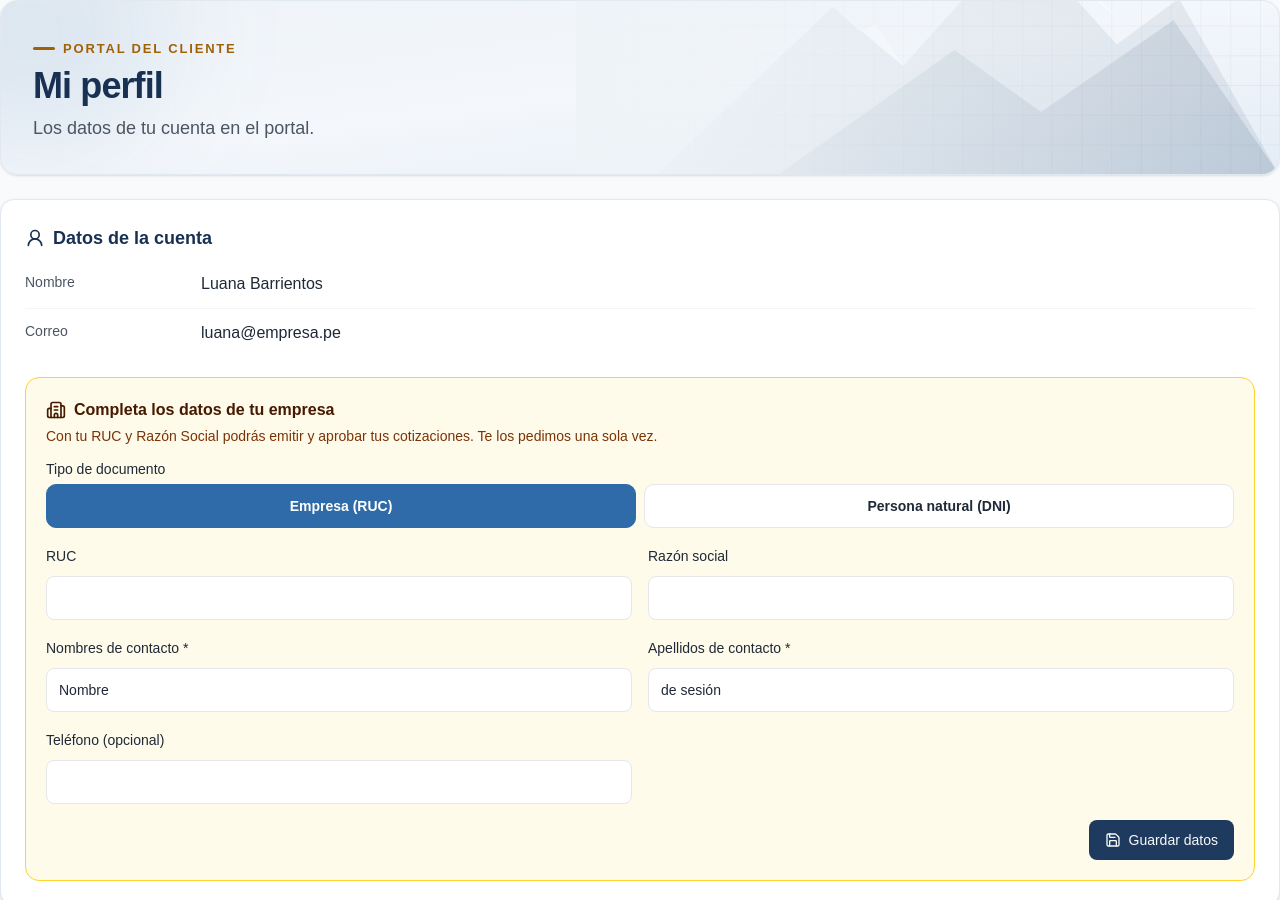
Test: PerfilClientePage (/portal/perfil) › cuenta sin datos de empresa › si la empresa ya es cliente: cierra la sesión y muestra el mensaje de acceso pendiente
expect the element "Completa los datos de tu empresa" is shown: met, box x1=25 y1=377 x2=1255 y2=881
Type "20123456789" into the field labelled "RUC" at (339, 598), box x1=46 y1=576 x2=632 y2=620
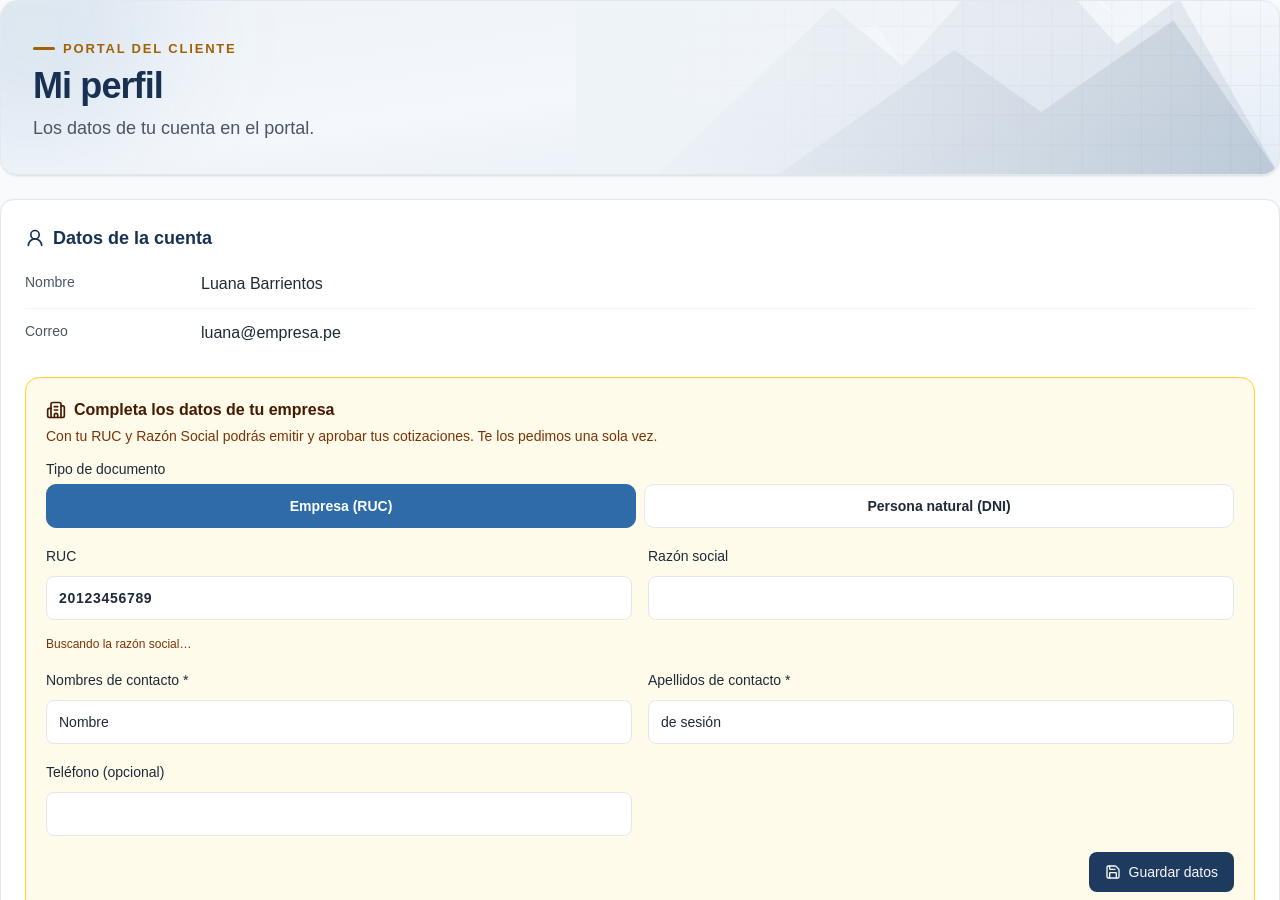
Type "Minera Sol S.A.C." into the field labelled "Razón social" at (941, 598), box x1=648 y1=576 x2=1234 y2=620
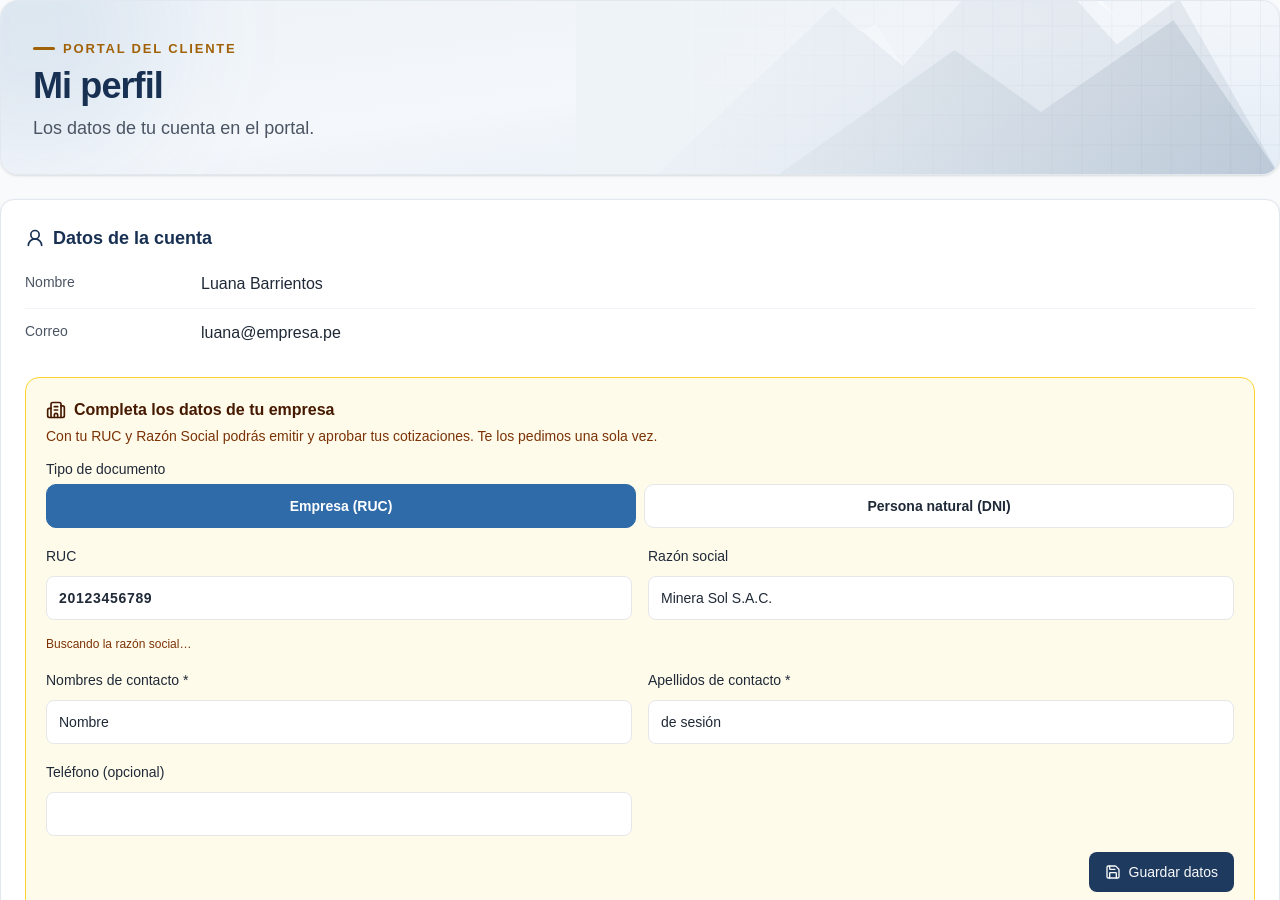
Replace the text in the field labelled "Nombres de contacto *" with "Gina" at (339, 722), box x1=46 y1=700 x2=632 y2=744
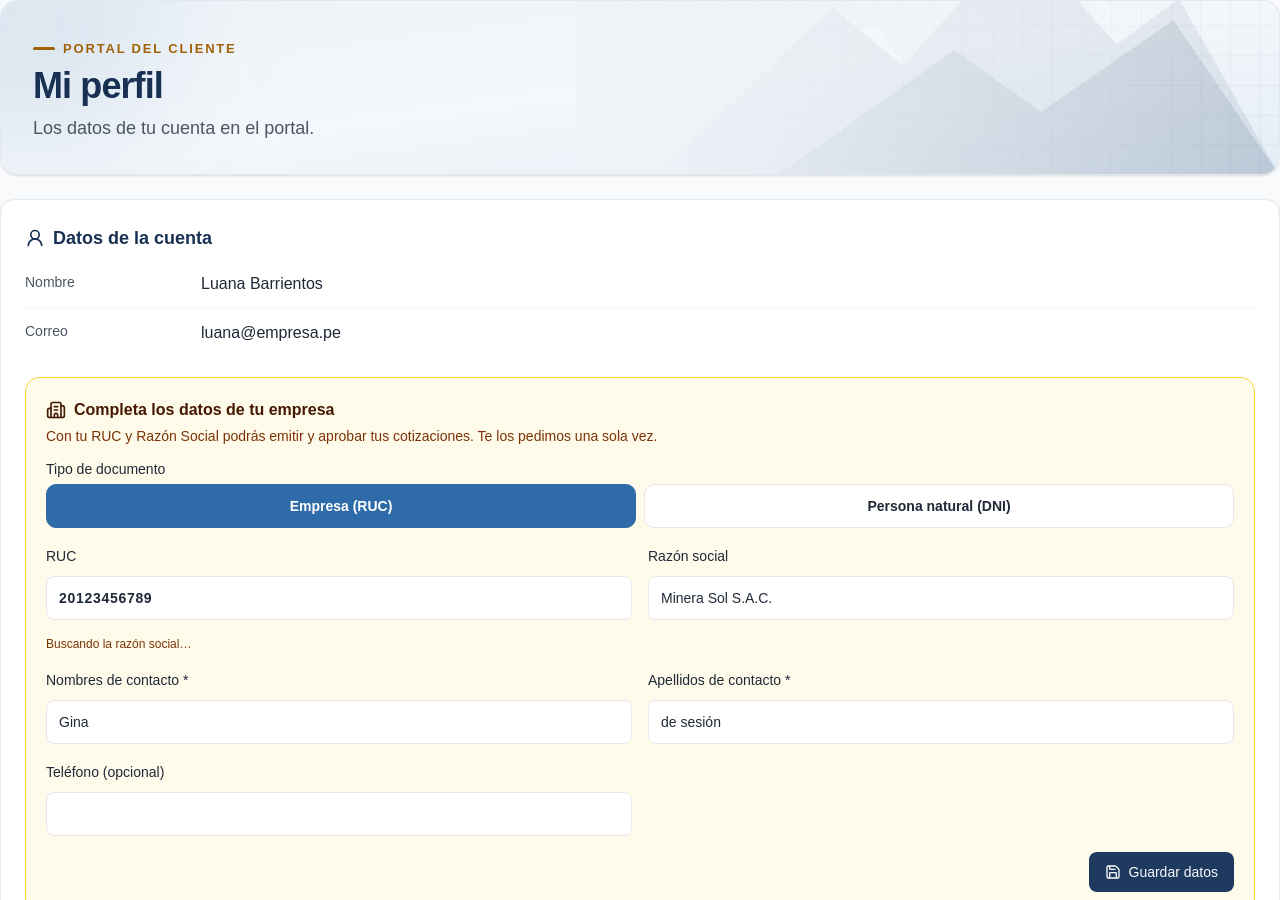
Replace the text in the field labelled "Apellidos de contacto *" with "Paz" at (941, 722), box x1=648 y1=700 x2=1234 y2=744
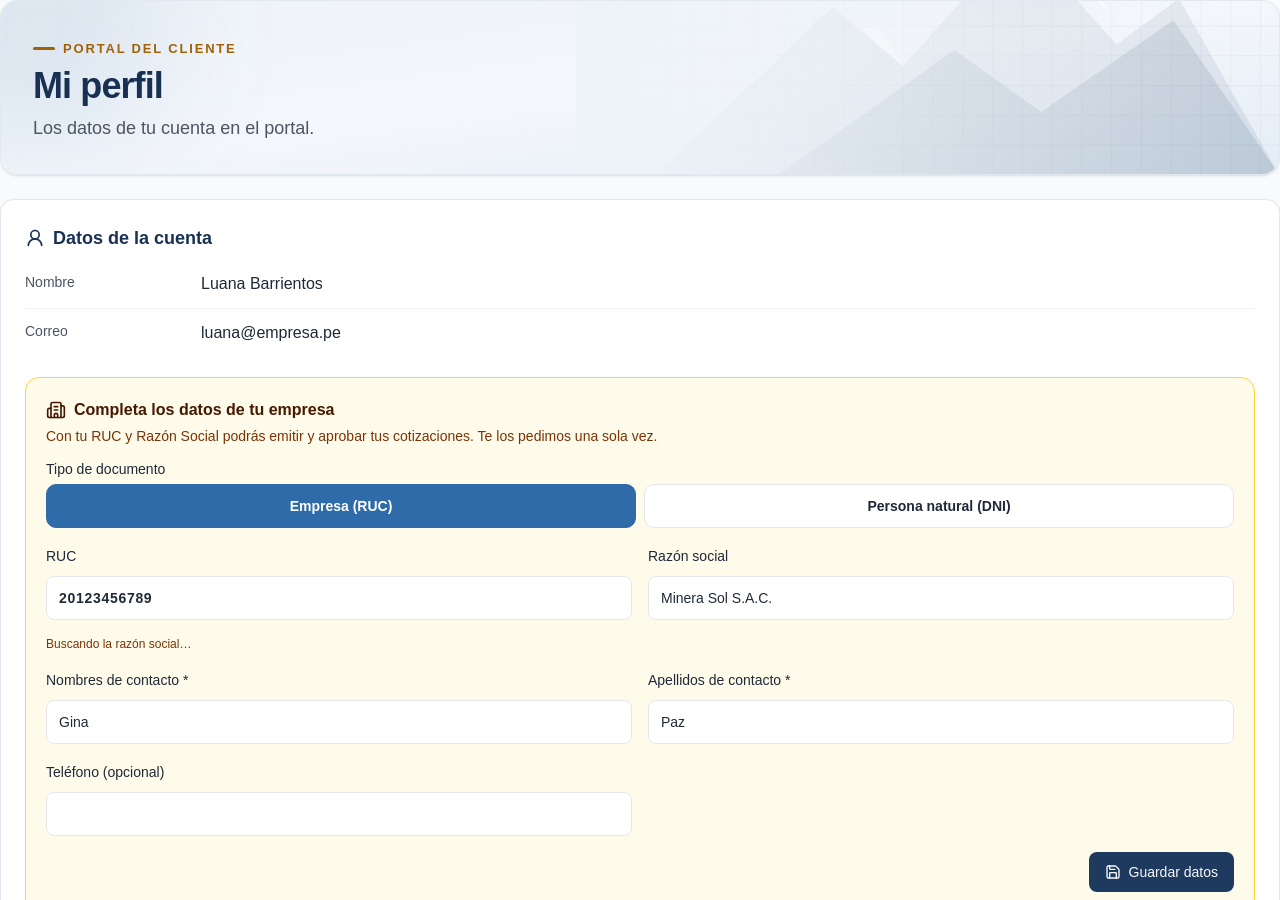
Click the button "Guardar datos" at (1161, 872), box x1=1088 y1=852 x2=1234 y2=892
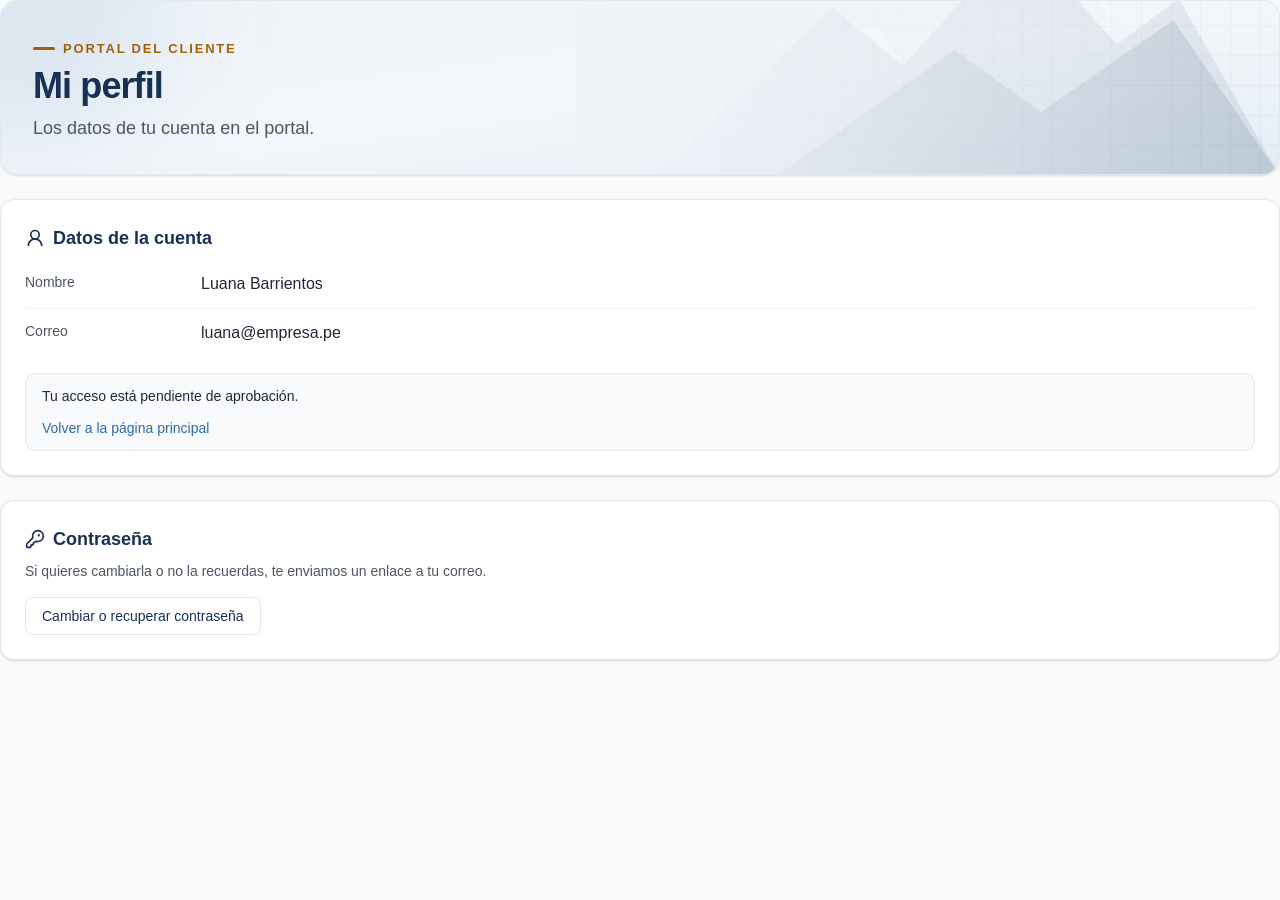
expect the text "Tu acceso está pendiente de aprobación." is shown: met, box x1=42 y1=388 x2=298 y2=404
